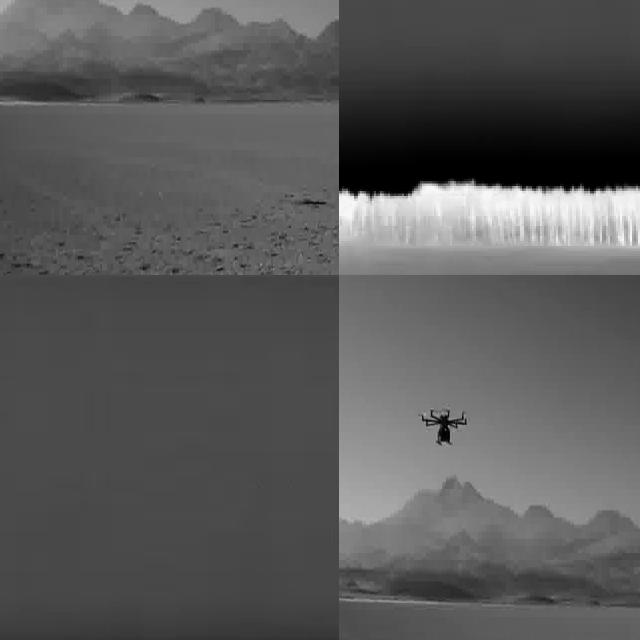drone: (422, 401, 468, 452)
